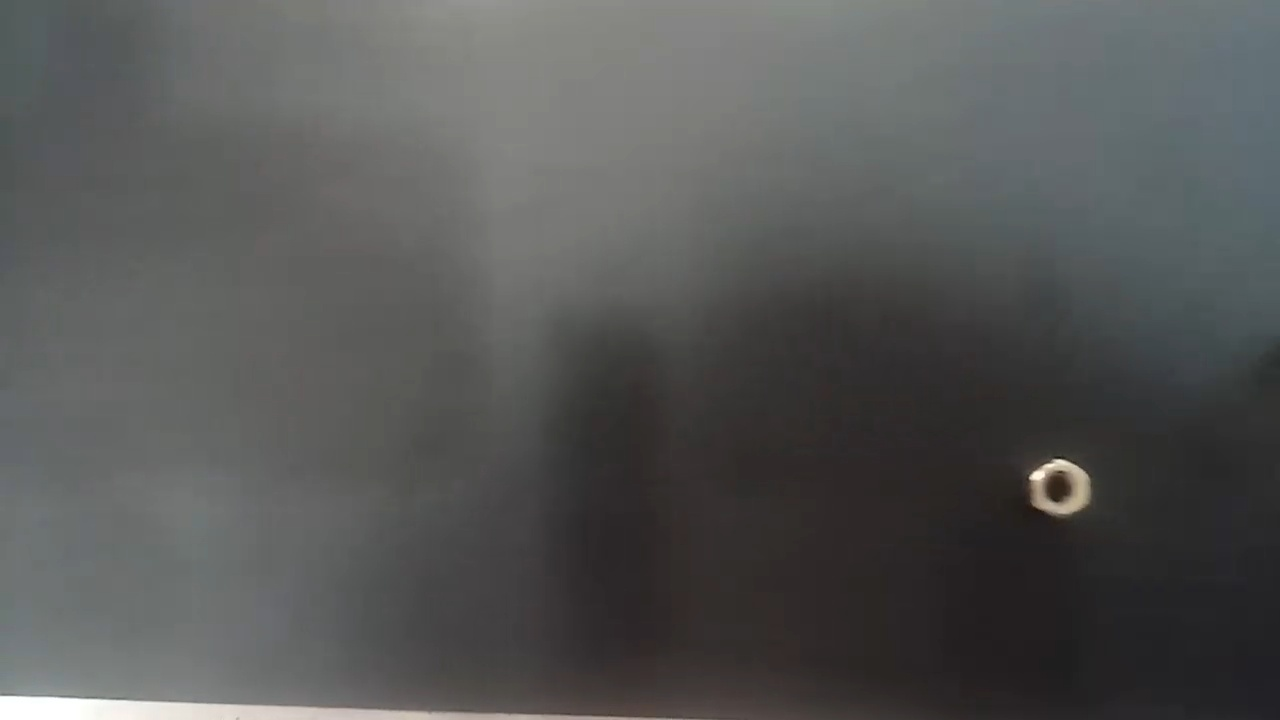Bolt: (1024, 449, 1094, 517)
